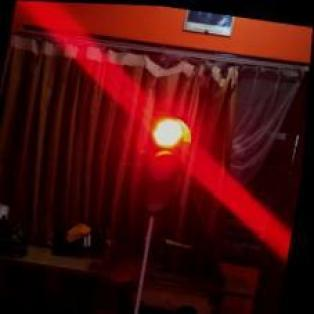Semoforo Rojo: (141, 112, 192, 214)
